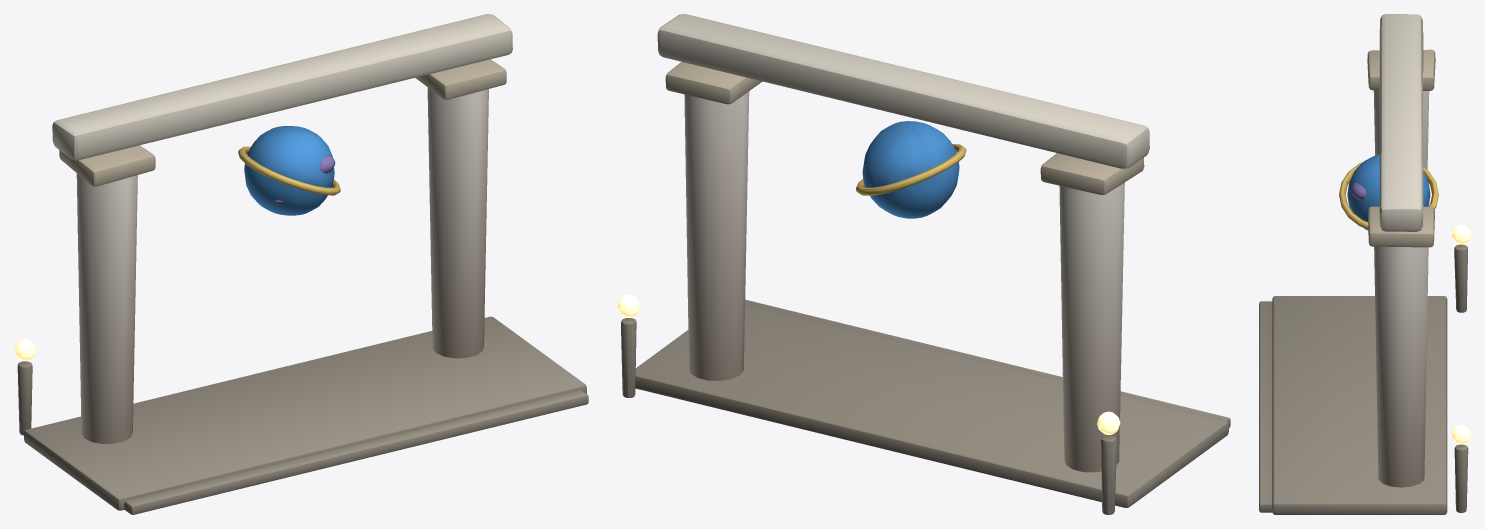
The picture shows the model from 3 angles, left to right: view 1: azimuth 30°, elevation 25°; view 2: azimuth 150°, elevation 25°; view 3: azimuth 270°, elevation 25°; orthographic projection. The views are drawn at different scales.
Visible parts, largest first — view 1: gate_876e0a9c; view 2: gate_876e0a9c; view 3: gate_876e0a9c.
Boxes of the visible parts, bbox=[...] form: gate_876e0a9c: bbox=[14, 14, 588, 514]; gate_876e0a9c: bbox=[617, 14, 1230, 514]; gate_876e0a9c: bbox=[1259, 14, 1470, 514].
Bounding box in the file's own units: 5.95 × 4 × 2.54.
